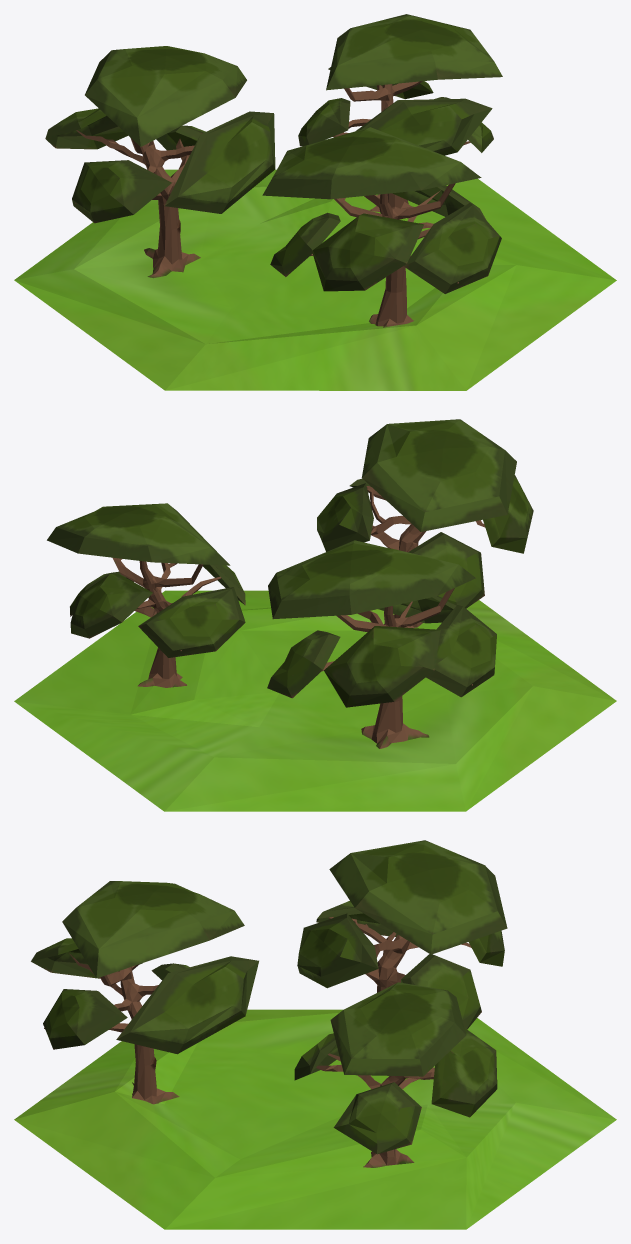
The model's file is tree.obj.
The picture shows the model from 3 angles, top to bottom: view 1: azimuth 30°, elevation 25°; view 2: azimuth 150°, elevation 25°; view 3: azimuth 270°, elevation 25°; orthographic projection.
Size of the model in its own units: 17.27 by 7.56 by 20.
Materials: 4 (4 with a texture image).
